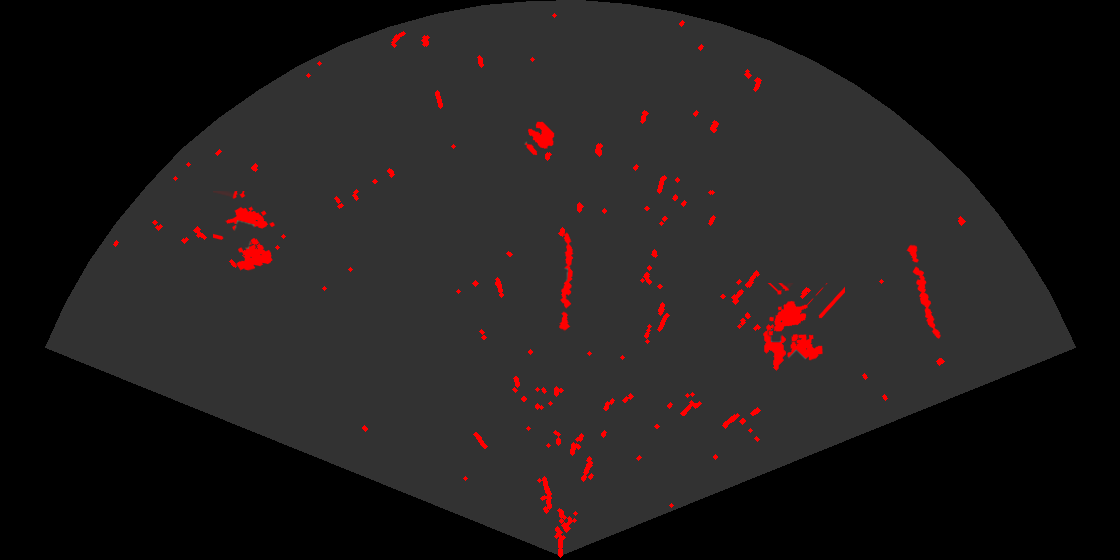AUV: (762, 323, 787, 372)
ball: (524, 120, 556, 157)
cage: (766, 283, 845, 362), (213, 191, 277, 272)
chain: (905, 242, 942, 340), (558, 231, 575, 333)
